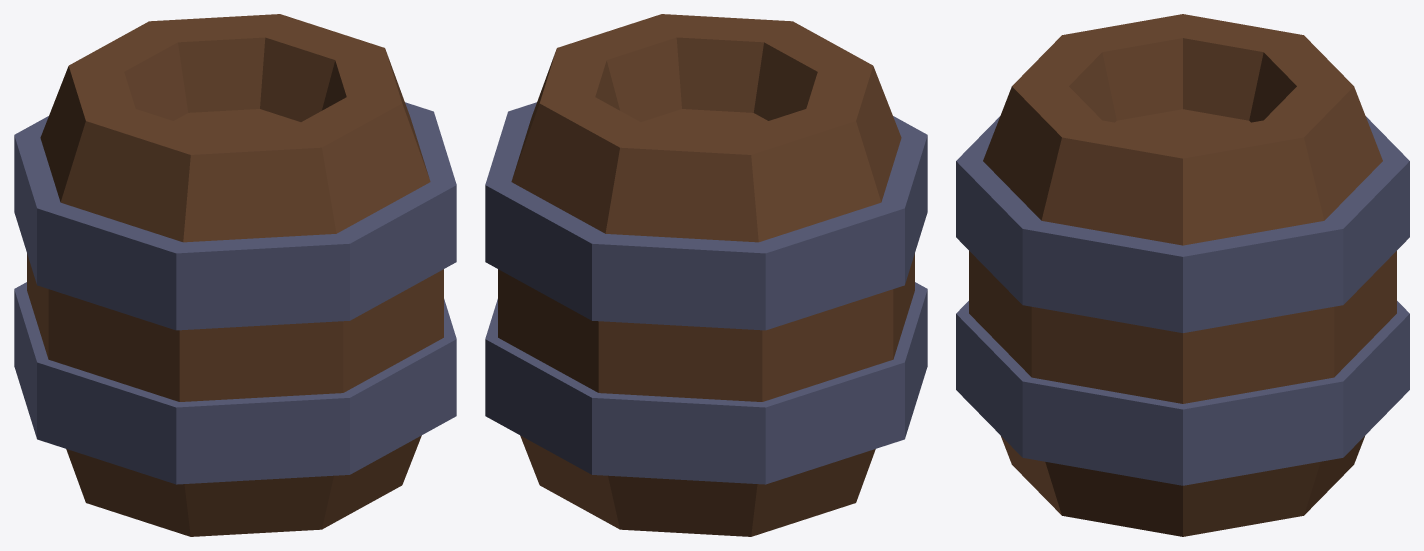
File: kenney_mini-dungeon__barrel__cave.fbx
3 views of the same model, side by side, from view 1: azimuth 30°, elevation 25°; view 2: azimuth 150°, elevation 25°; view 3: azimuth 270°, elevation 25° (orthographic).
Parts seen in each view (by area): view 1: kenney_mini-dungeon__barrel__cave_wood, kenney_mini-dungeon__barrel__cave_stone; view 2: kenney_mini-dungeon__barrel__cave_wood, kenney_mini-dungeon__barrel__cave_stone; view 3: kenney_mini-dungeon__barrel__cave_wood, kenney_mini-dungeon__barrel__cave_stone.
Part boxes in pixels (x1=…): kenney_mini-dungeon__barrel__cave_wood: x1=27, y1=14, x2=443, y2=536; kenney_mini-dungeon__barrel__cave_stone: x1=14, y1=102, x2=456, y2=484; kenney_mini-dungeon__barrel__cave_wood: x1=498, y1=14, x2=914, y2=536; kenney_mini-dungeon__barrel__cave_stone: x1=485, y1=102, x2=927, y2=484; kenney_mini-dungeon__barrel__cave_wood: x1=969, y1=14, x2=1396, y2=536; kenney_mini-dungeon__barrel__cave_stone: x1=956, y1=116, x2=1409, y2=485.
Size of the model in its own units: 1.85 by 1.7 by 1.85.
Materials: 2 (2 with a texture image).
